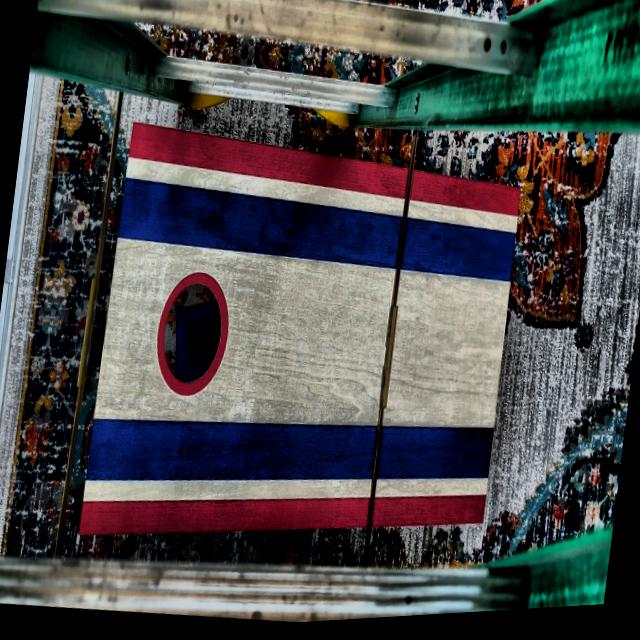blue-bean-bag-in-hole: (162, 311, 220, 387)
board: (86, 145, 520, 545)
hole: (148, 268, 234, 404)
